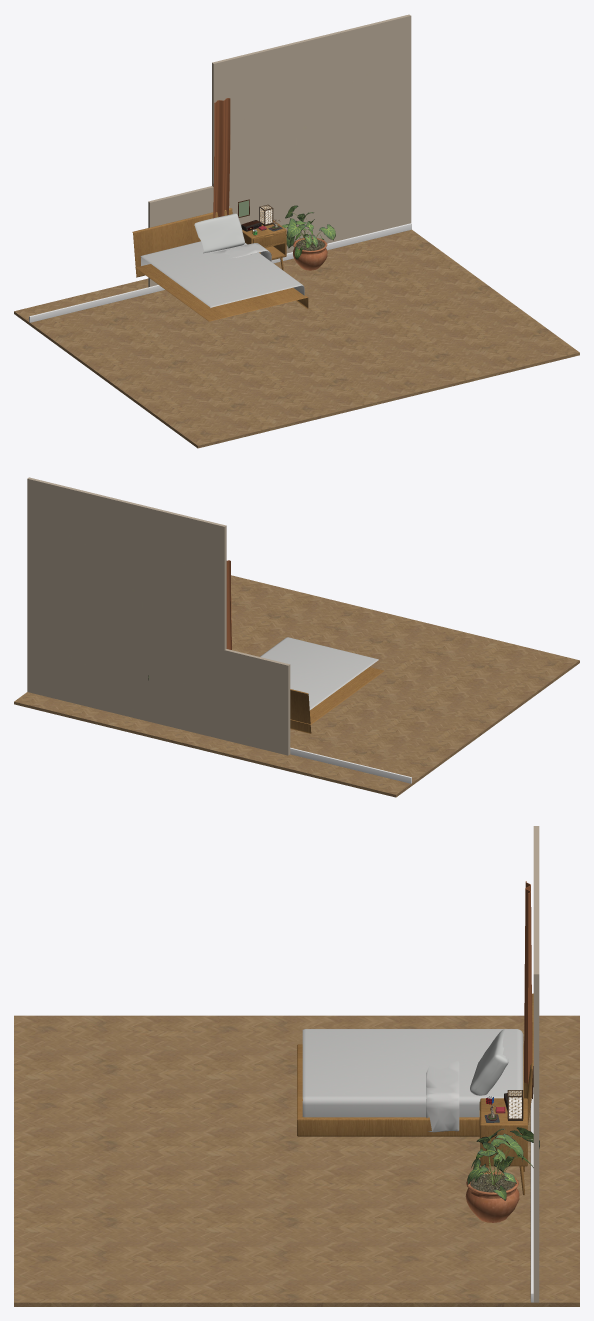
File: donor.glb
3 views of the same model, one above another, from view 1: azimuth 30°, elevation 25°; view 2: azimuth 150°, elevation 25°; view 3: azimuth 270°, elevation 25° (orthographic). The views are drawn at different scales.
Parts seen in each view (by area): view 1: Floor, WallRight, WallFar, Mattress, BedFrame, Headboard, Curtain1, WallBelow, potted_plant_02, Skirting, Pillow1, Nightstand; view 2: Floor, WallRight, WallFar, WallBelow, Mattress, BedFrame, Skirting, Headboard, Curtain1; view 3: Floor, Mattress, BedFrame, potted_plant_02, WallFar, SheetFold, Nightstand, Curtain1, Pillow1, Skirting, WallRight.
Boxes of the visible parts, x1,y1,x2,y2 form: Floor: (14, 229, 579, 448); WallRight: (212, 31, 340, 253); WallFar: (339, 14, 411, 240); Mattress: (140, 241, 304, 307); BedFrame: (135, 264, 308, 321); Headboard: (132, 208, 232, 277); Curtain1: (213, 98, 230, 218); WallBelow: (148, 186, 213, 287); potted_plant_02: (282, 205, 335, 270); Skirting: (29, 223, 411, 322); Pillow1: (194, 213, 244, 253); Nightstand: (242, 220, 286, 270); Floor: (14, 575, 579, 797); WallRight: (97, 494, 226, 739); WallFar: (27, 477, 98, 708); WallBelow: (224, 649, 290, 755); Mattress: (260, 637, 378, 710); BedFrame: (290, 667, 383, 724); Skirting: (290, 747, 411, 783); Headboard: (290, 689, 311, 733); Curtain1: (226, 560, 231, 649); Floor: (14, 1015, 579, 1306); Mattress: (302, 1029, 523, 1117); BedFrame: (297, 1044, 523, 1136); potted_plant_02: (465, 1127, 539, 1222); WallFar: (533, 921, 539, 1302); SheetFold: (426, 1061, 459, 1132); Nightstand: (479, 1098, 527, 1195); Curtain1: (524, 881, 532, 1086); Pillow1: (470, 1029, 508, 1095); Skirting: (530, 1087, 533, 1302); WallRight: (533, 826, 539, 921).
Size of the model in its own units: 60 by 32.4 by 50.
Materials: 48 (11 with a texture image).
